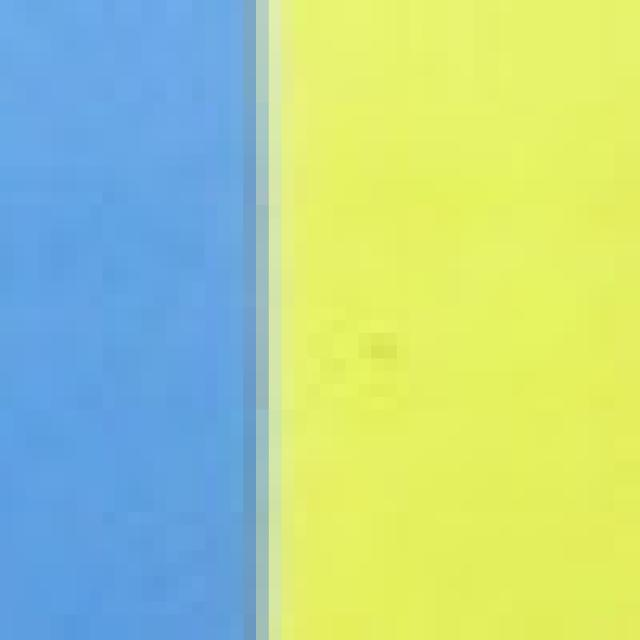no_fire: (24, 9, 608, 617)
